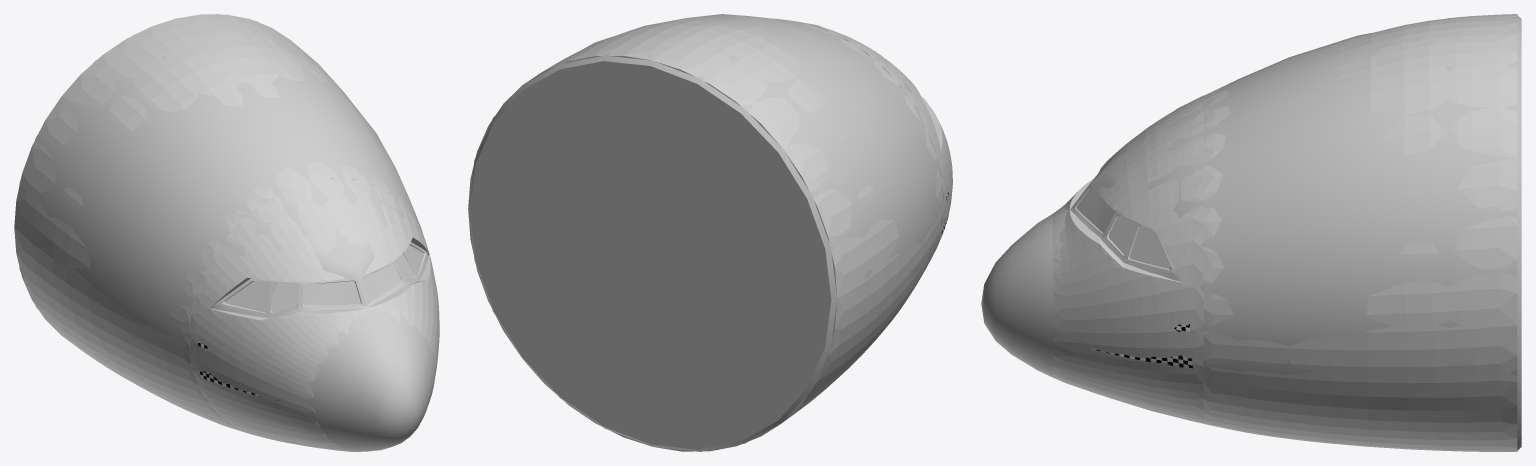
File: ExportedBlenderFBXFile.fbx
3 renders of one model, left to right at view 1: azimuth 30°, elevation 25°; view 2: azimuth 150°, elevation 25°; view 3: azimuth 270°, elevation 25°, orthographic. The views are drawn at different scales.
Visible parts, largest first — view 1: 37-50Adapter, A38-Adapter, 37A38-STL, 18NCS-A38, 37A38-Body, 37A38-Windows_001, 37A38-Windows; view 2: 37-50Adapter, A38-Adapter, 37A38-STL; view 3: A38-Adapter, 37-50Adapter, 37A38-STL, 18NCS-A38, 37A38-Body, 37A38-Windows_001, 37A38-Windows, 37A38-FlagTransform.
Part boxes in pixels (x1,y1,x2,y2): 37-50Adapter: (19, 14, 423, 420); A38-Adapter: (14, 14, 422, 434); 37A38-STL: (189, 178, 439, 451); 18NCS-A38: (314, 321, 435, 451); 37A38-Body: (188, 178, 436, 451); 37A38-Windows_001: (225, 245, 423, 312); 37A38-Windows: (226, 245, 422, 310); 37-50Adapter: (468, 14, 943, 451); A38-Adapter: (468, 18, 943, 451); 37A38-STL: (796, 21, 952, 262); A38-Adapter: (1203, 14, 1517, 451); 37-50Adapter: (1203, 15, 1521, 451); 37A38-STL: (1053, 95, 1203, 423); 18NCS-A38: (981, 214, 1052, 377); 37A38-Body: (1052, 97, 1203, 423); 37A38-Windows_001: (1076, 187, 1170, 268); 37A38-Windows: (1096, 199, 1169, 266); 37A38-FlagTransform: (1092, 323, 1192, 368).
Size of what is drawn, in the model's own units: 5 by 5 by 6.17.
